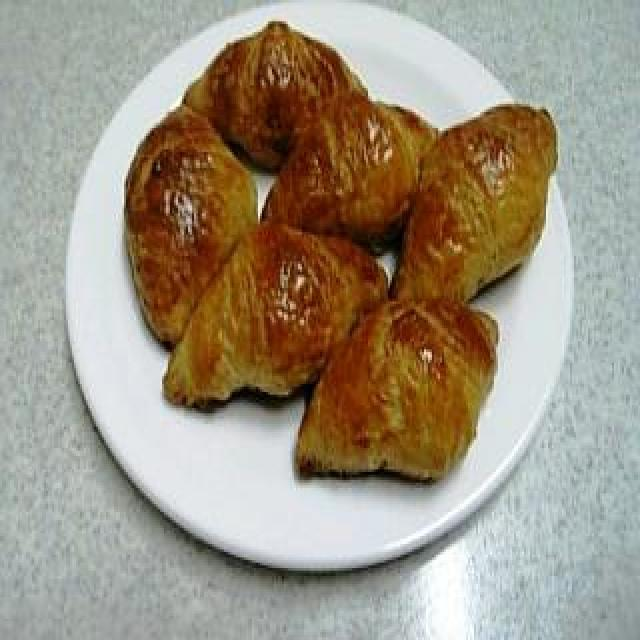Croissant: (161, 207, 392, 406), (290, 287, 496, 485)
